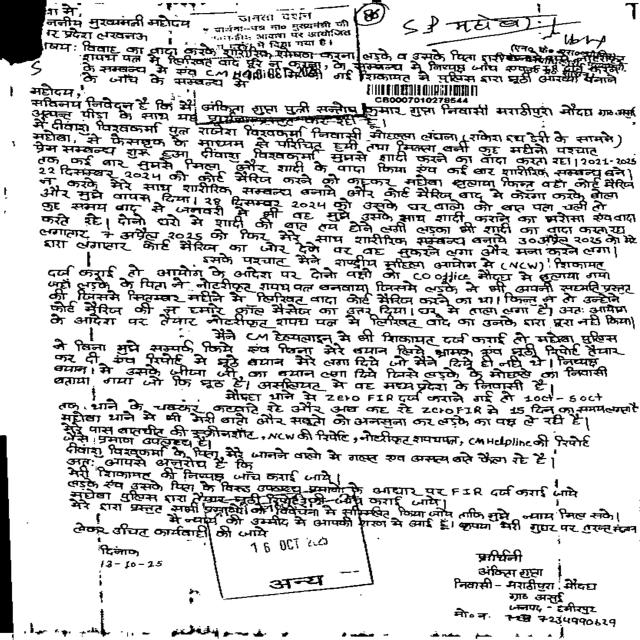antritgovtstamp: (208, 485, 380, 602)
barcode: (356, 79, 483, 110)
jantadarsan: (187, 9, 368, 121)
